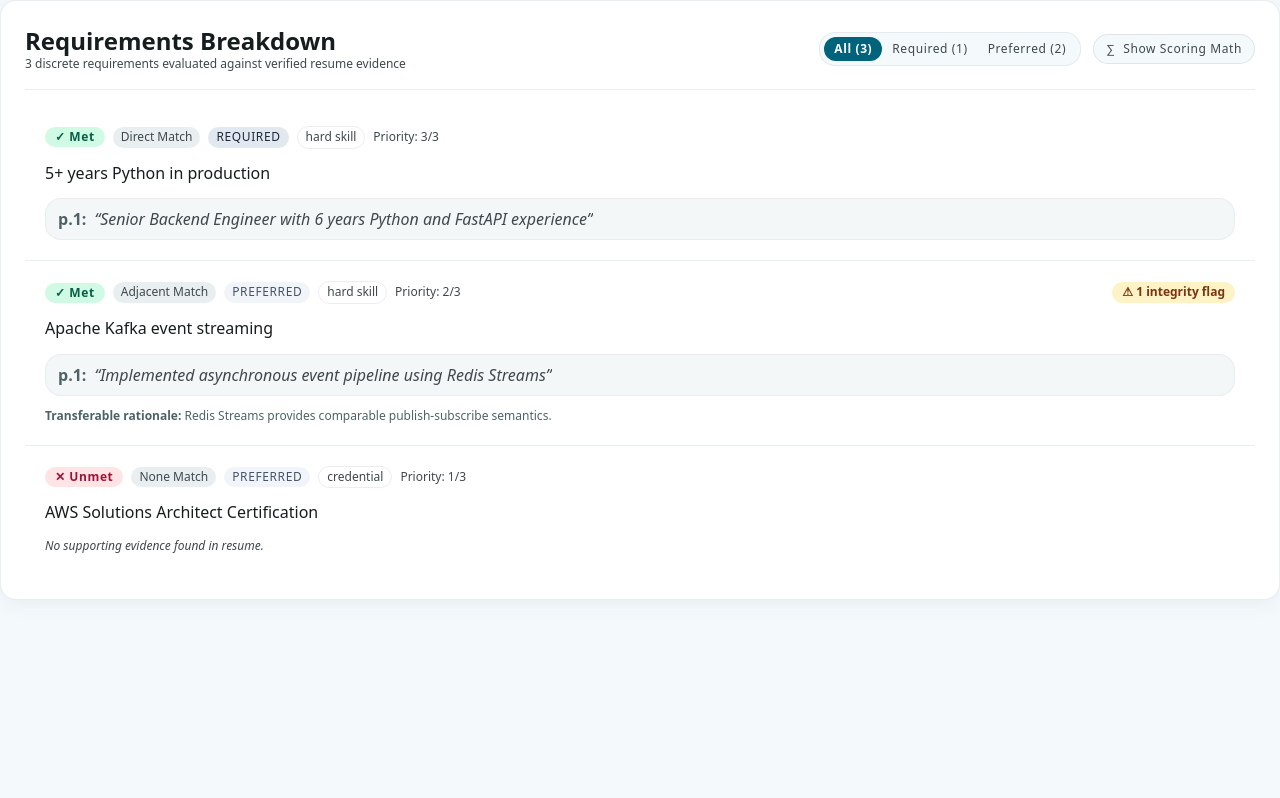
Scenario: Phase 3G Match UI Tests › RequirementTable component › toggles arithmetic scoring formula and displays exact sum alignment
Click the button with test id "arithmetic-toggle" at (1174, 49), box top-left (1093, 34), bottom-right (1255, 64)
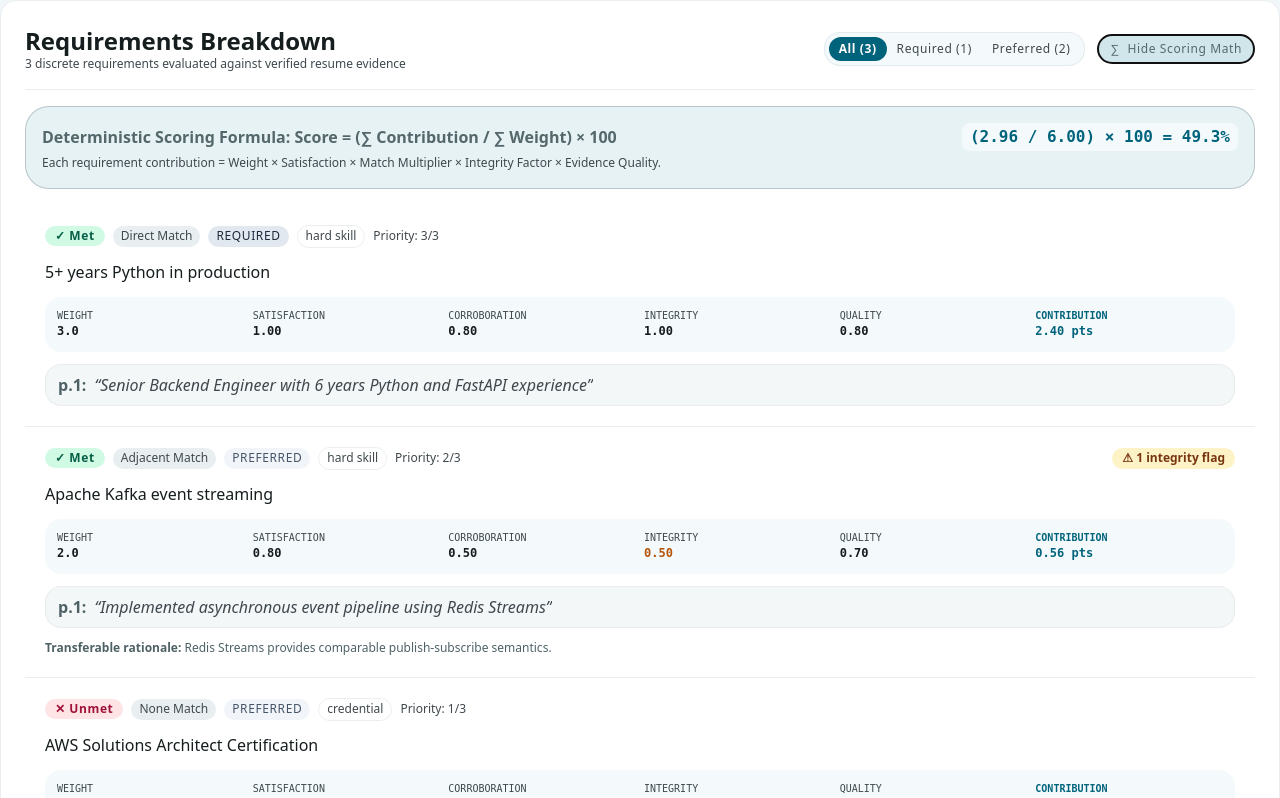
Now the element with test id "arithmetic-breakdown" is shown, box top-left (25, 106), bottom-right (1255, 189)
Now the text "Deterministic Scoring Formula" is shown, box top-left (42, 126), bottom-right (617, 148)
